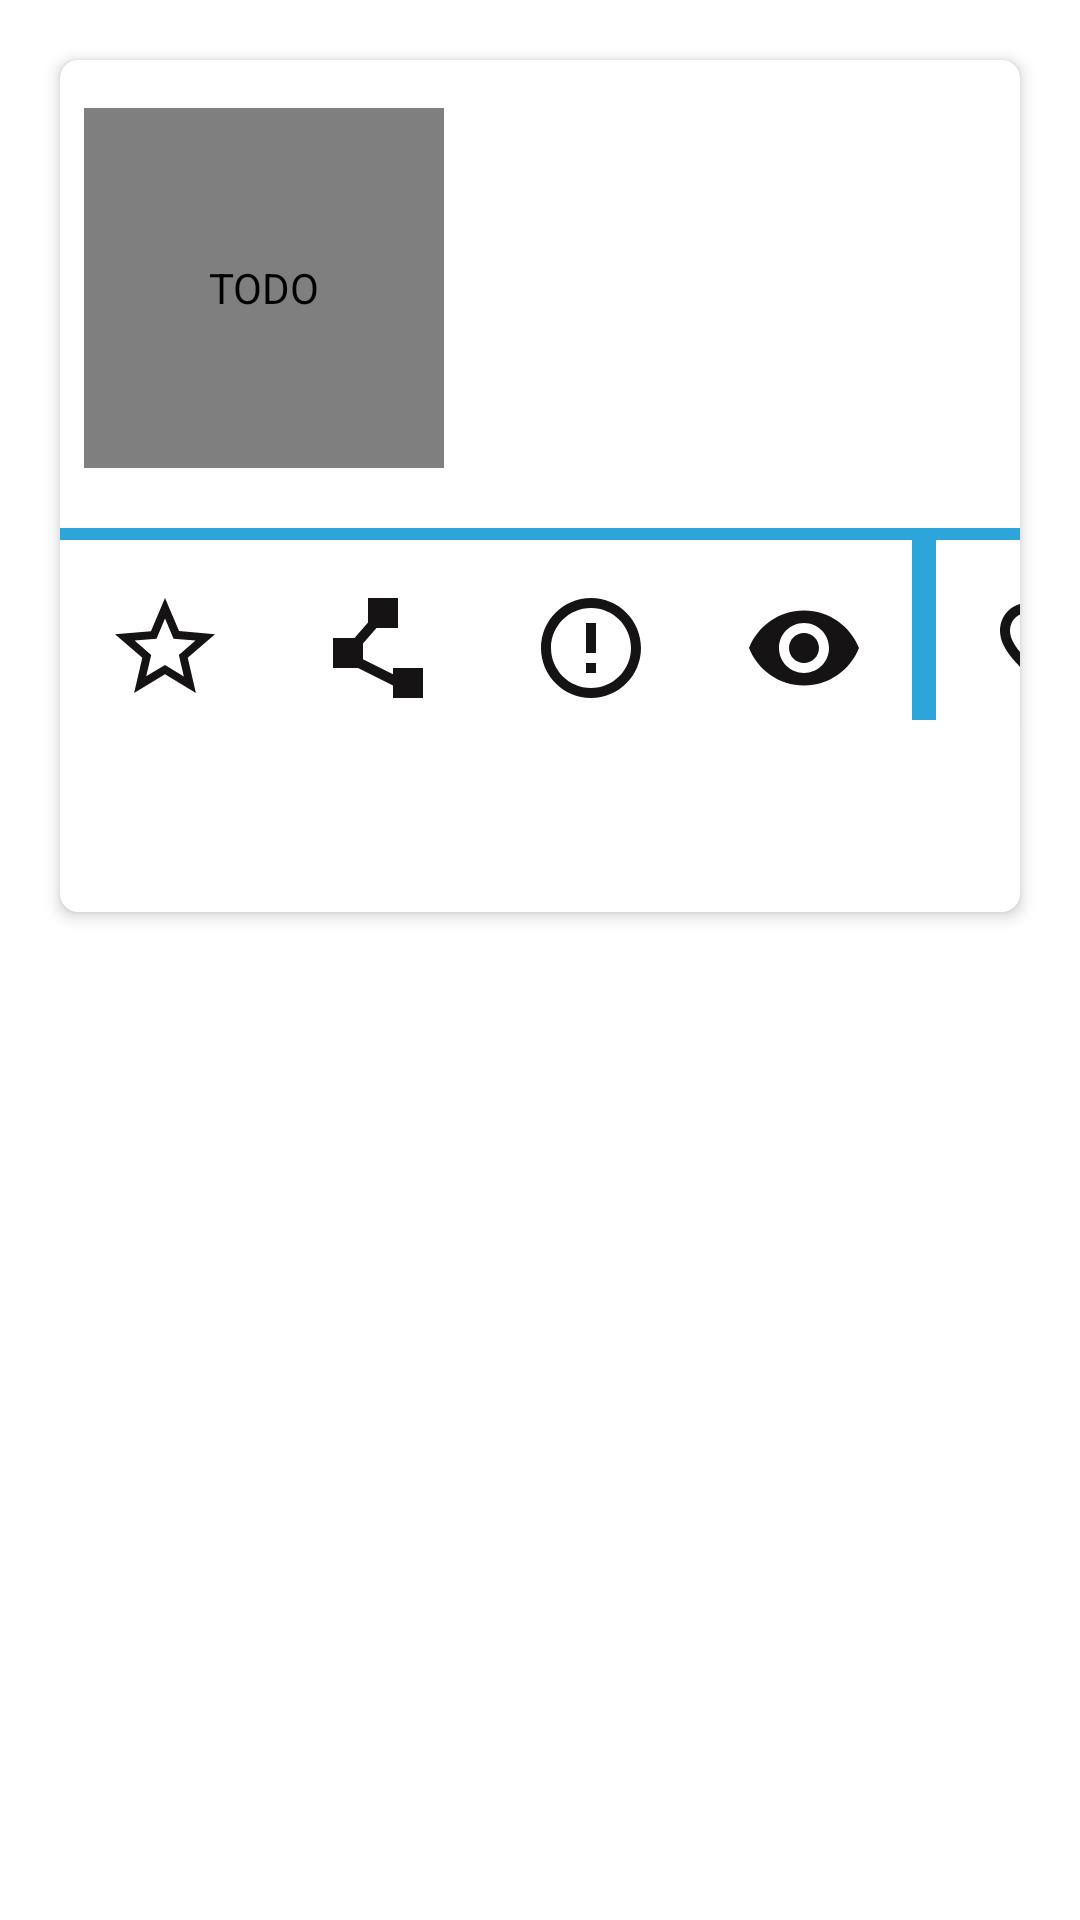

Point at icon controls on the screen. Image size 1080 x 1920, points as (x,y).
error: (591,648)
polyline: (378,648)
star: (165,645)
